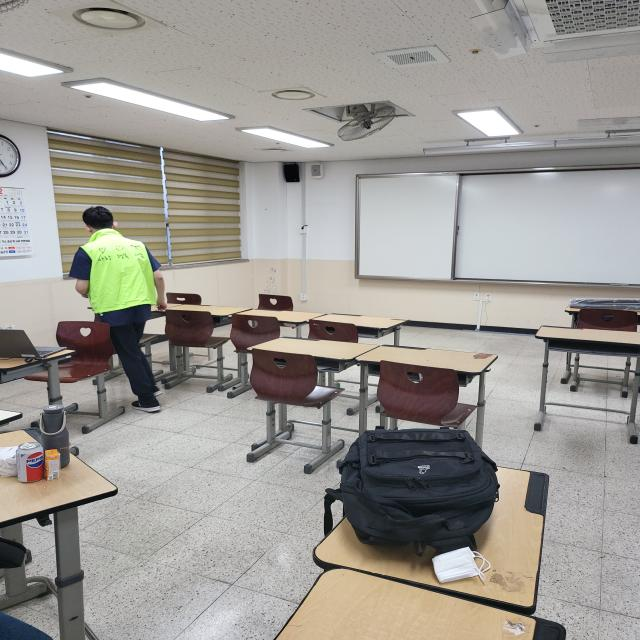weston_spy: (77, 223, 166, 318)
